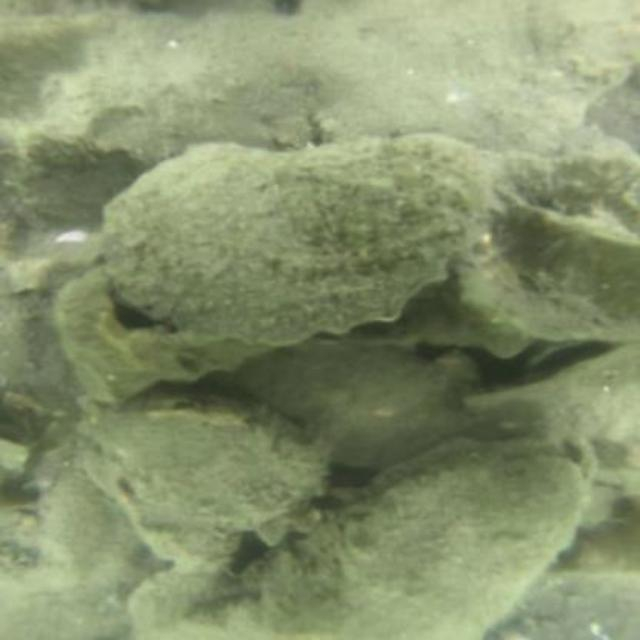Oyster-Closed: (99, 136, 500, 351), (256, 435, 600, 629), (76, 410, 314, 559), (120, 554, 498, 638), (231, 344, 466, 469), (458, 179, 638, 342), (454, 334, 638, 487)
Oyster-Open: (49, 255, 548, 410), (512, 334, 622, 391)
